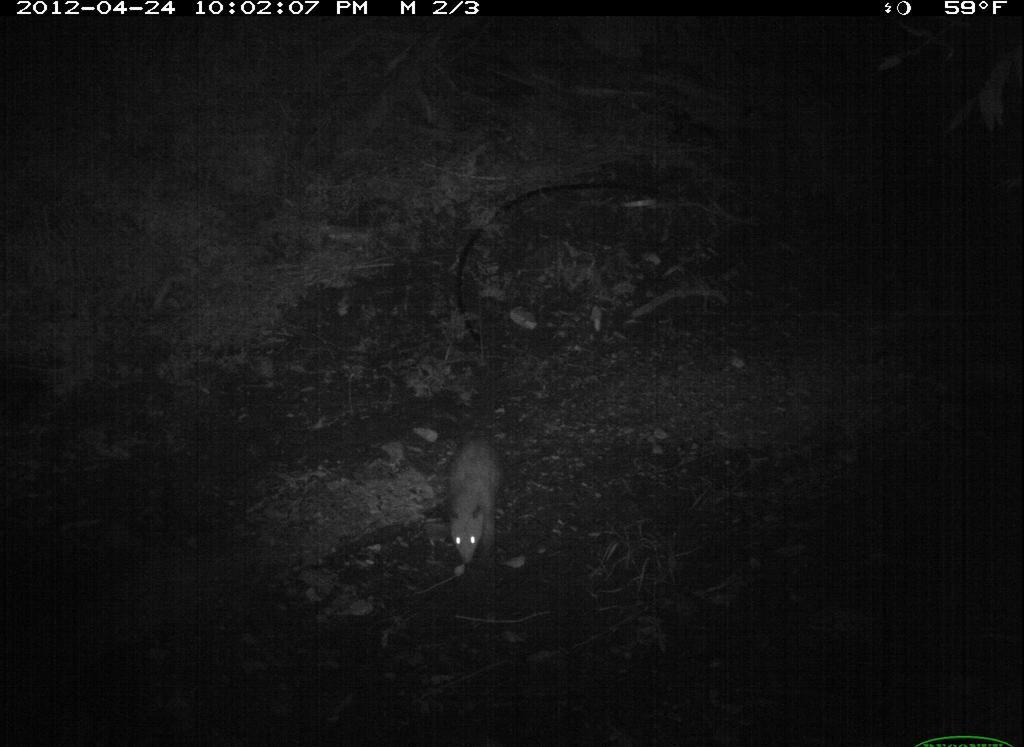opossum: (434, 427, 520, 579)
